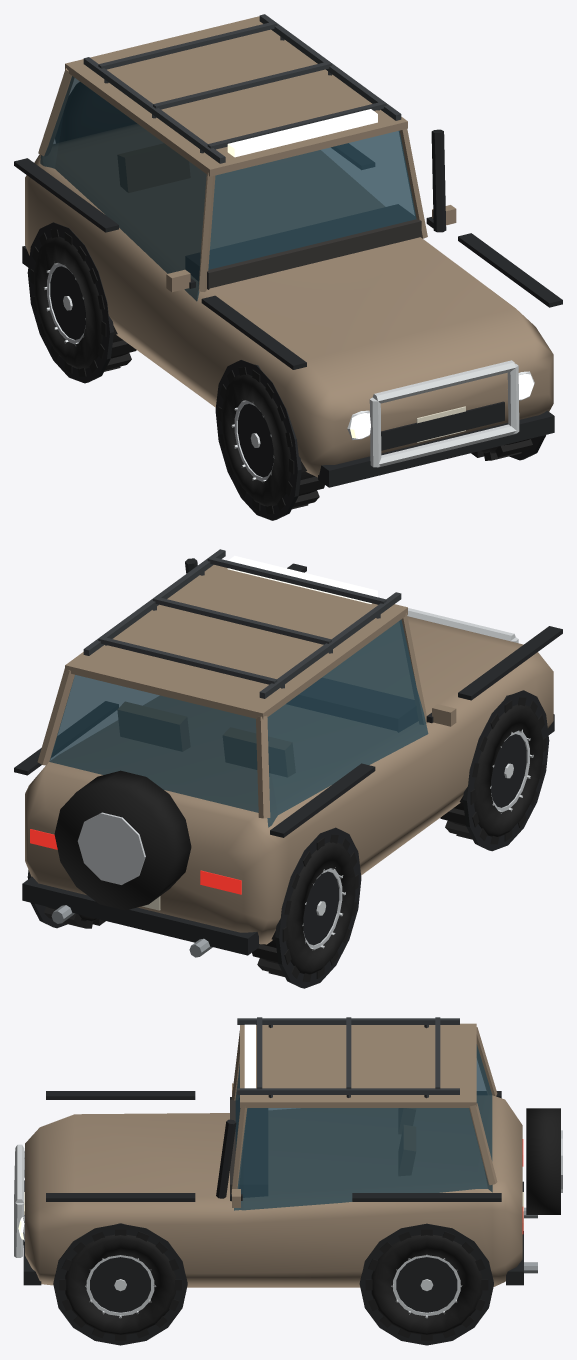
Rendered from stoneback-crawler.glb.
3 views of the same model, one above another, from view 1: azimuth 30°, elevation 25°; view 2: azimuth 150°, elevation 25°; view 3: azimuth 270°, elevation 25° (orthographic). The views are drawn at different scales.
Parts seen in each view (by area): view 1: body, wheel_FR, wheel_RR, wheel_FL; view 2: body, wheel_RR, wheel_FR, taillight_R; view 3: body, wheel_RL, wheel_FL.
Boxes of the visible parts, left/top/right/bottom form: body: left=14, top=14, right=562, bottom=520; wheel_FR: left=218, top=367, right=324, bottom=513; wheel_RR: left=30, top=229, right=136, bottom=376; wheel_FL: left=471, top=438, right=532, bottom=460; body: left=14, top=549, right=562, bottom=988; wheel_RR: left=252, top=834, right=358, bottom=981; wheel_FR: left=440, top=697, right=546, bottom=844; taillight_R: left=200, top=870, right=241, bottom=894; body: left=14, top=1017, right=562, bottom=1345; wheel_RL: left=365, top=1229, right=488, bottom=1340; wheel_FL: left=59, top=1229, right=181, bottom=1340.
Bounding box in the file's own units: 2.1 × 2.1 × 4.3.
